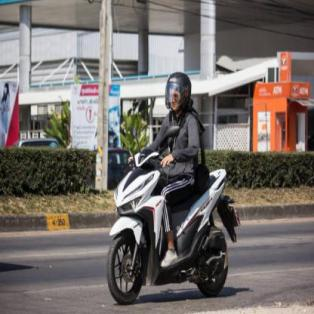Motocicleta: (107, 130, 237, 306)
